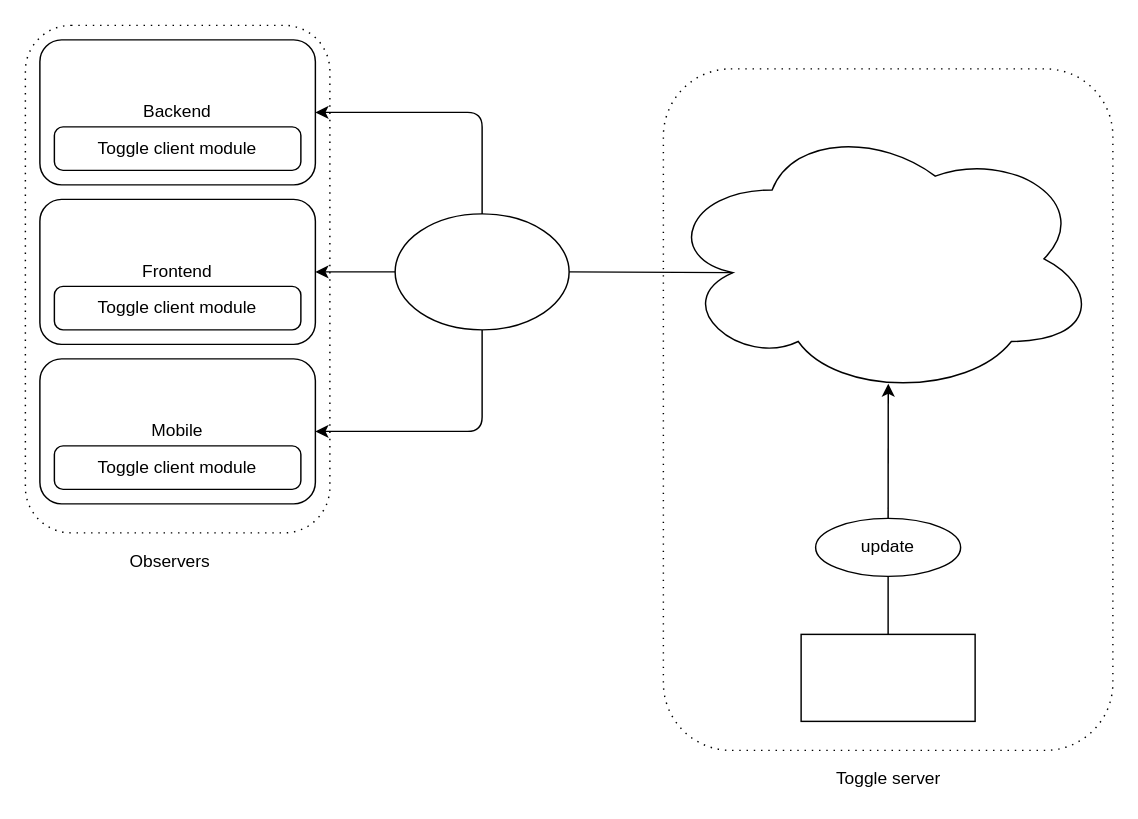
Image size: 1138x819. Some labels were removed from this diagram. The shapes that lost their labels are listed below. From the top down, each one's box as (x1, y1, x2, y2) in pixels, then its label:
(394, 212, 569, 330): observe
(662, 120, 1098, 397): Toggle server (Websocket connection)
(800, 633, 975, 721): Toggle Controller
